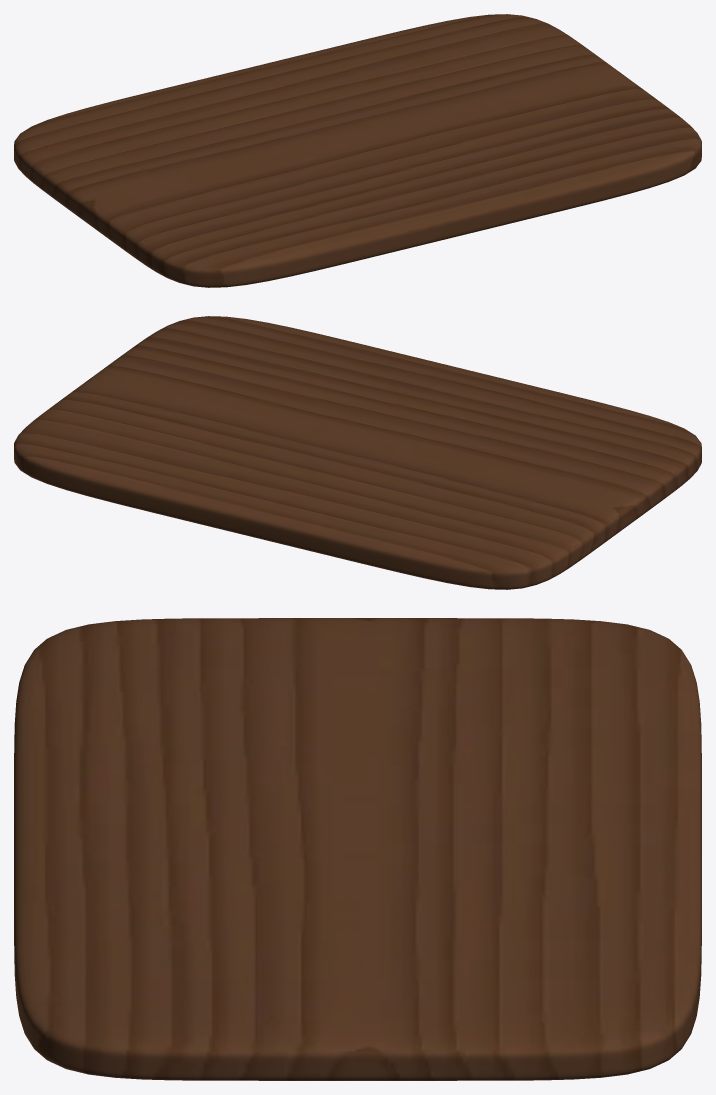
The model's file is walnut-block.glb.
The picture shows the model from 3 angles, top to bottom: view 1: azimuth 30°, elevation 25°; view 2: azimuth 150°, elevation 25°; view 3: azimuth 270°, elevation 25°; orthographic projection. The views are drawn at different scales.
Visible parts, largest first — view 1: board_wood; view 2: board_wood; view 3: board_wood.
Part boxes in pixels (bbox=[...]): board_wood: bbox=[14, 14, 701, 287]; board_wood: bbox=[14, 316, 701, 589]; board_wood: bbox=[14, 618, 701, 1080].
Size of the model in its own units: 0.45 by 0.022 by 0.3.
Materials: 1 (1 with a texture image).
